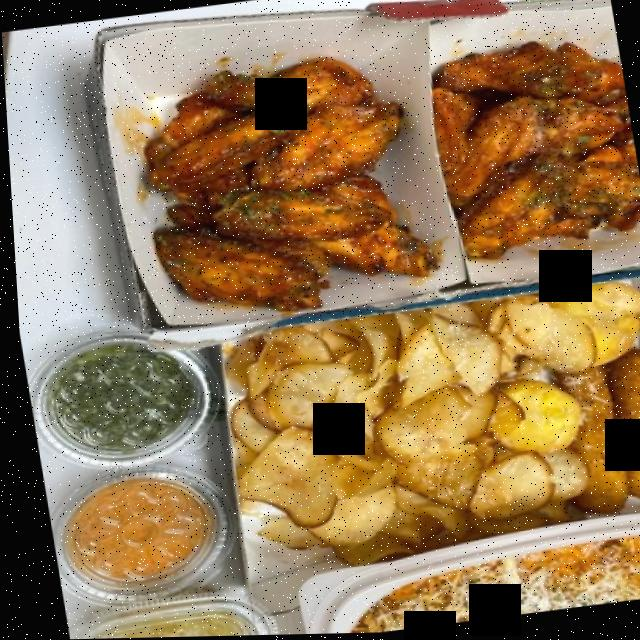Frango: (121, 9, 640, 309)
